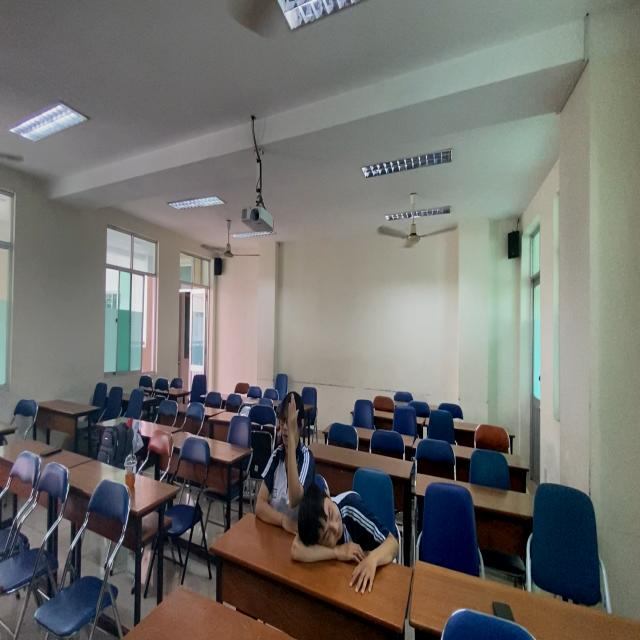raise_hand: (252, 388, 316, 537)
sleep: (294, 491, 399, 575)
